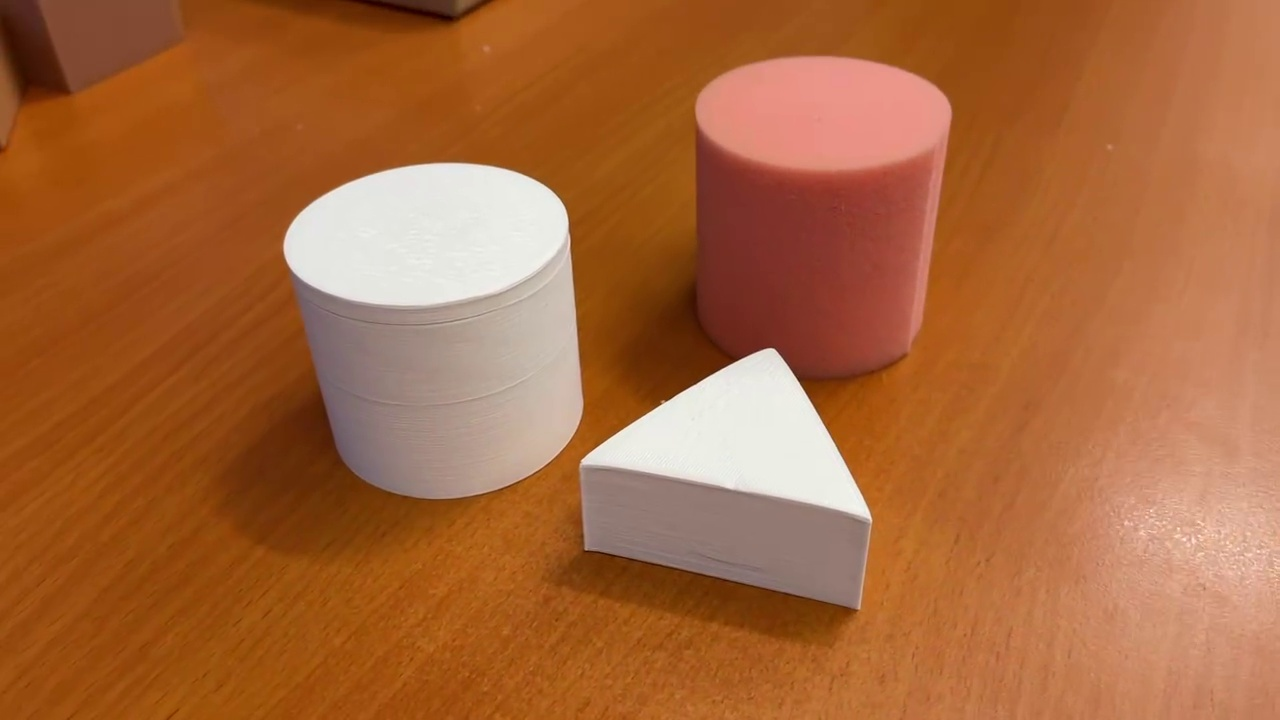Cylinder: (277, 156, 588, 507), (679, 52, 959, 386)
Triangle_short: (573, 343, 875, 616)
